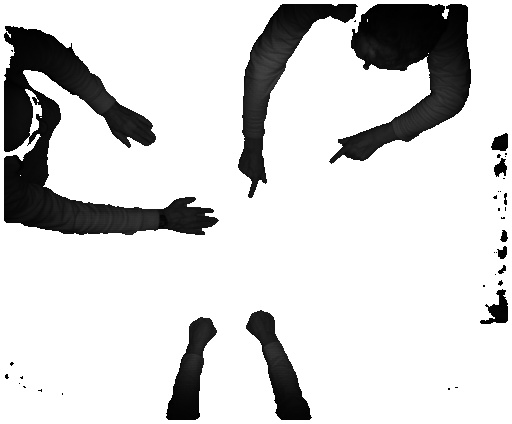fist: (240, 304, 281, 342), (184, 312, 223, 347)
hand: (165, 193, 223, 239), (109, 104, 159, 151), (328, 131, 382, 167), (238, 145, 271, 199)
